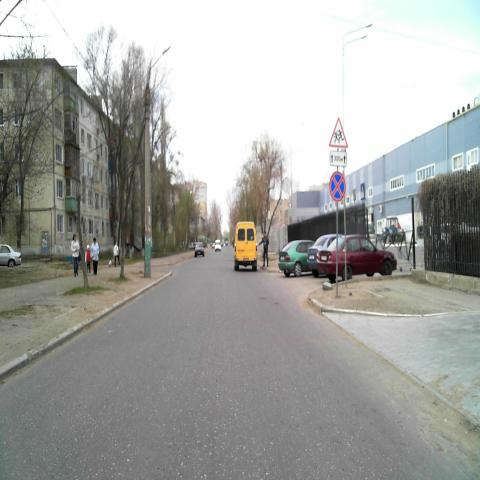8_2_1: (330, 149, 346, 167)
